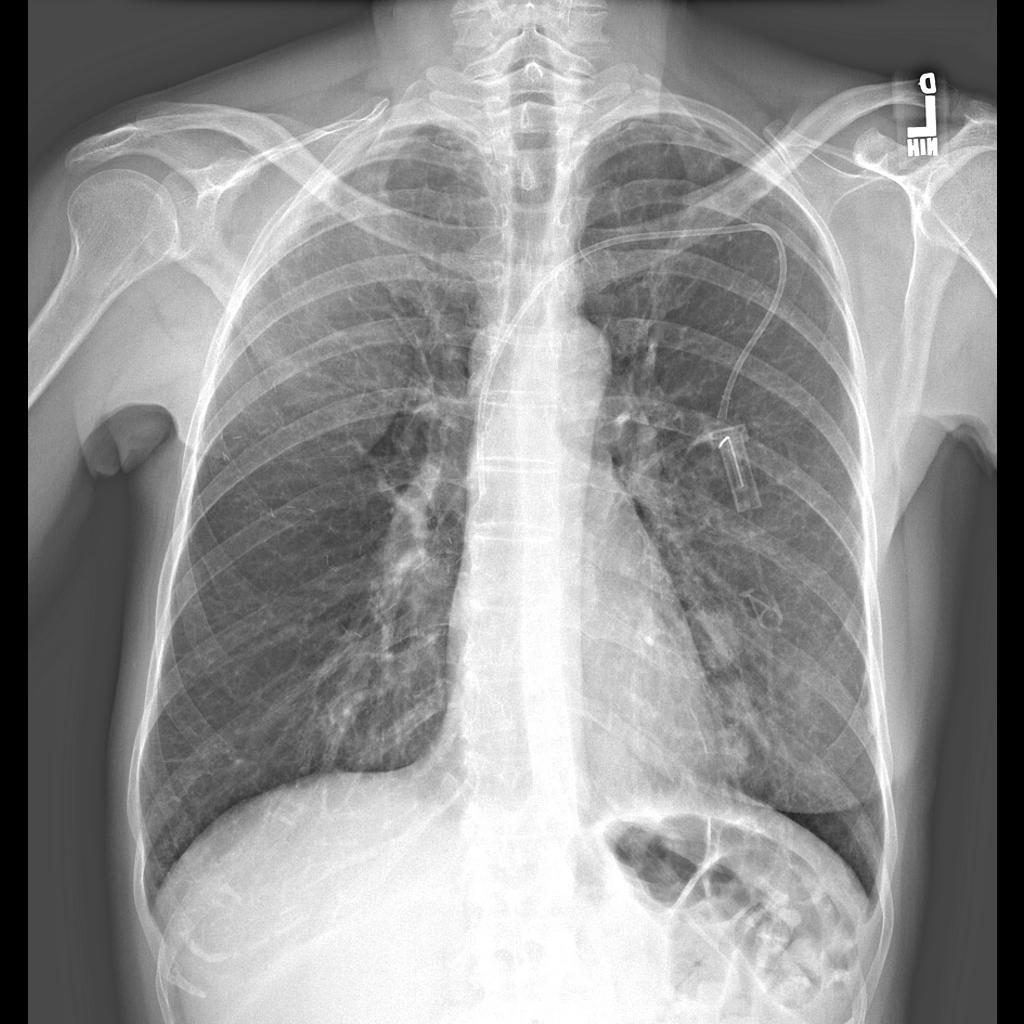Nodule: (679, 603, 747, 668), (711, 727, 755, 779), (706, 678, 752, 716)
